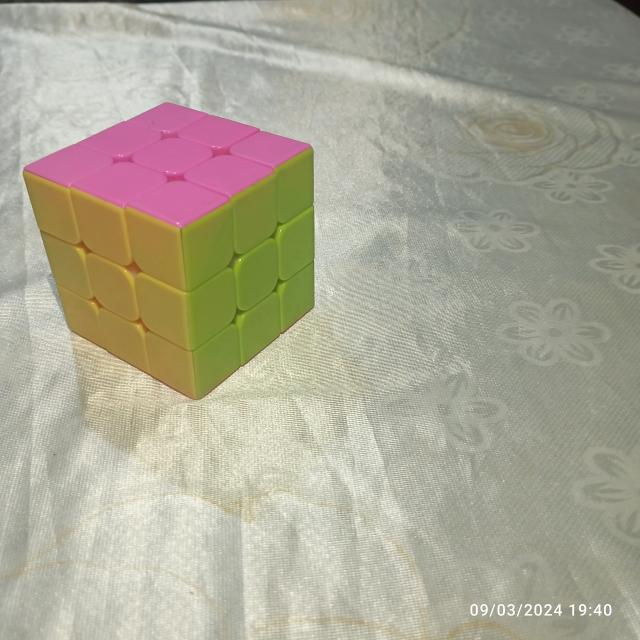Rub: (20, 97, 318, 405)
